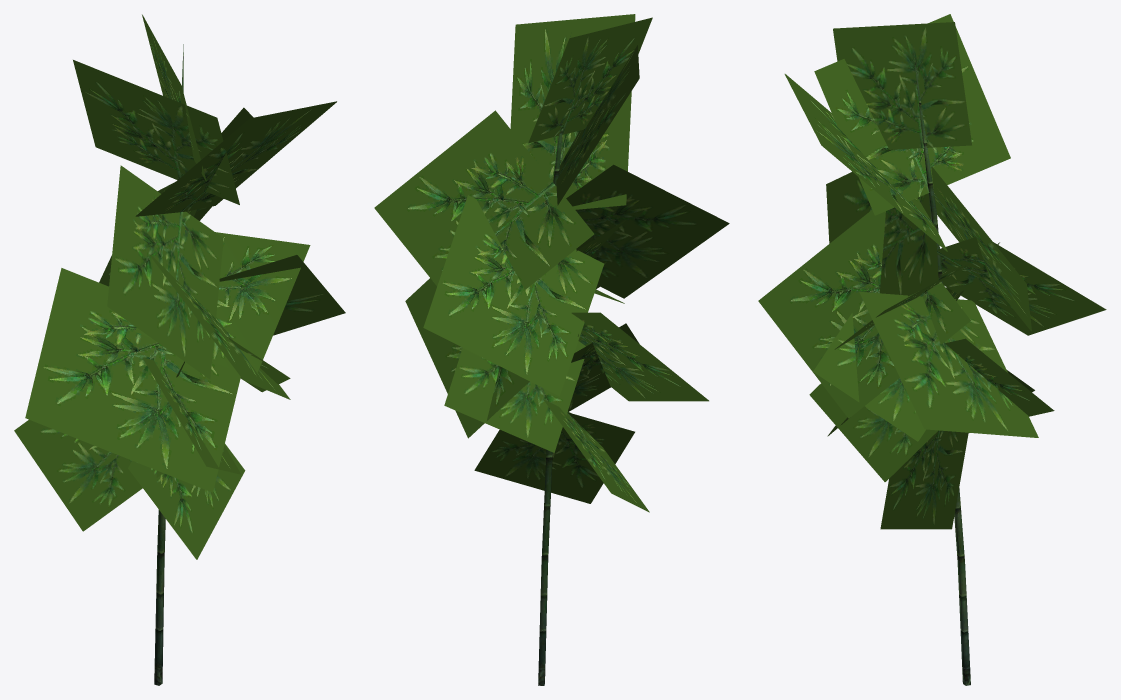
The model's file is Dingqingchuan_wujian_18.FBX.
3 views of the same model, side by side, from view 1: azimuth 30°, elevation 25°; view 2: azimuth 150°, elevation 25°; view 3: azimuth 270°, elevation 25° (orthographic). The views are drawn at different scales.
Visible parts, largest first — view 1: Plane907, Cylinder63; view 2: Plane907, Cylinder63; view 3: Plane907, Cylinder63.
Boxes of the visible parts, <box> form: Plane907: <box>14,14,345,559</box>; Cylinder63: <box>154,44,183,685</box>; Plane907: <box>374,14,729,512</box>; Cylinder63: <box>538,36,570,685</box>; Plane907: <box>758,14,1106,529</box>; Cylinder63: <box>913,46,970,685</box>.
Size of the model in its own units: 2.8 by 5.69 by 2.76.
